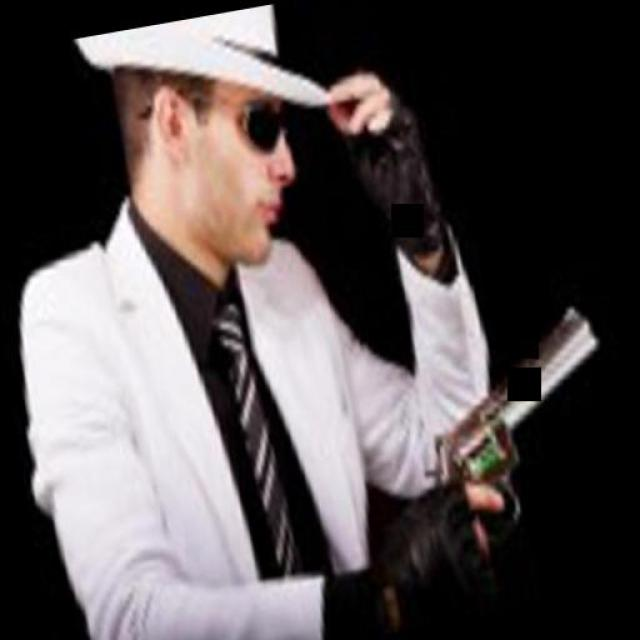gun: (370, 290, 638, 586)
